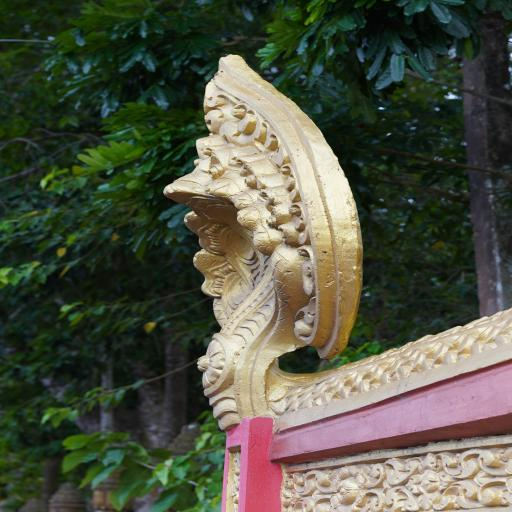hoa: (406, 455, 460, 512), (328, 466, 372, 512), (282, 471, 316, 512)
ran: (143, 55, 417, 432)
